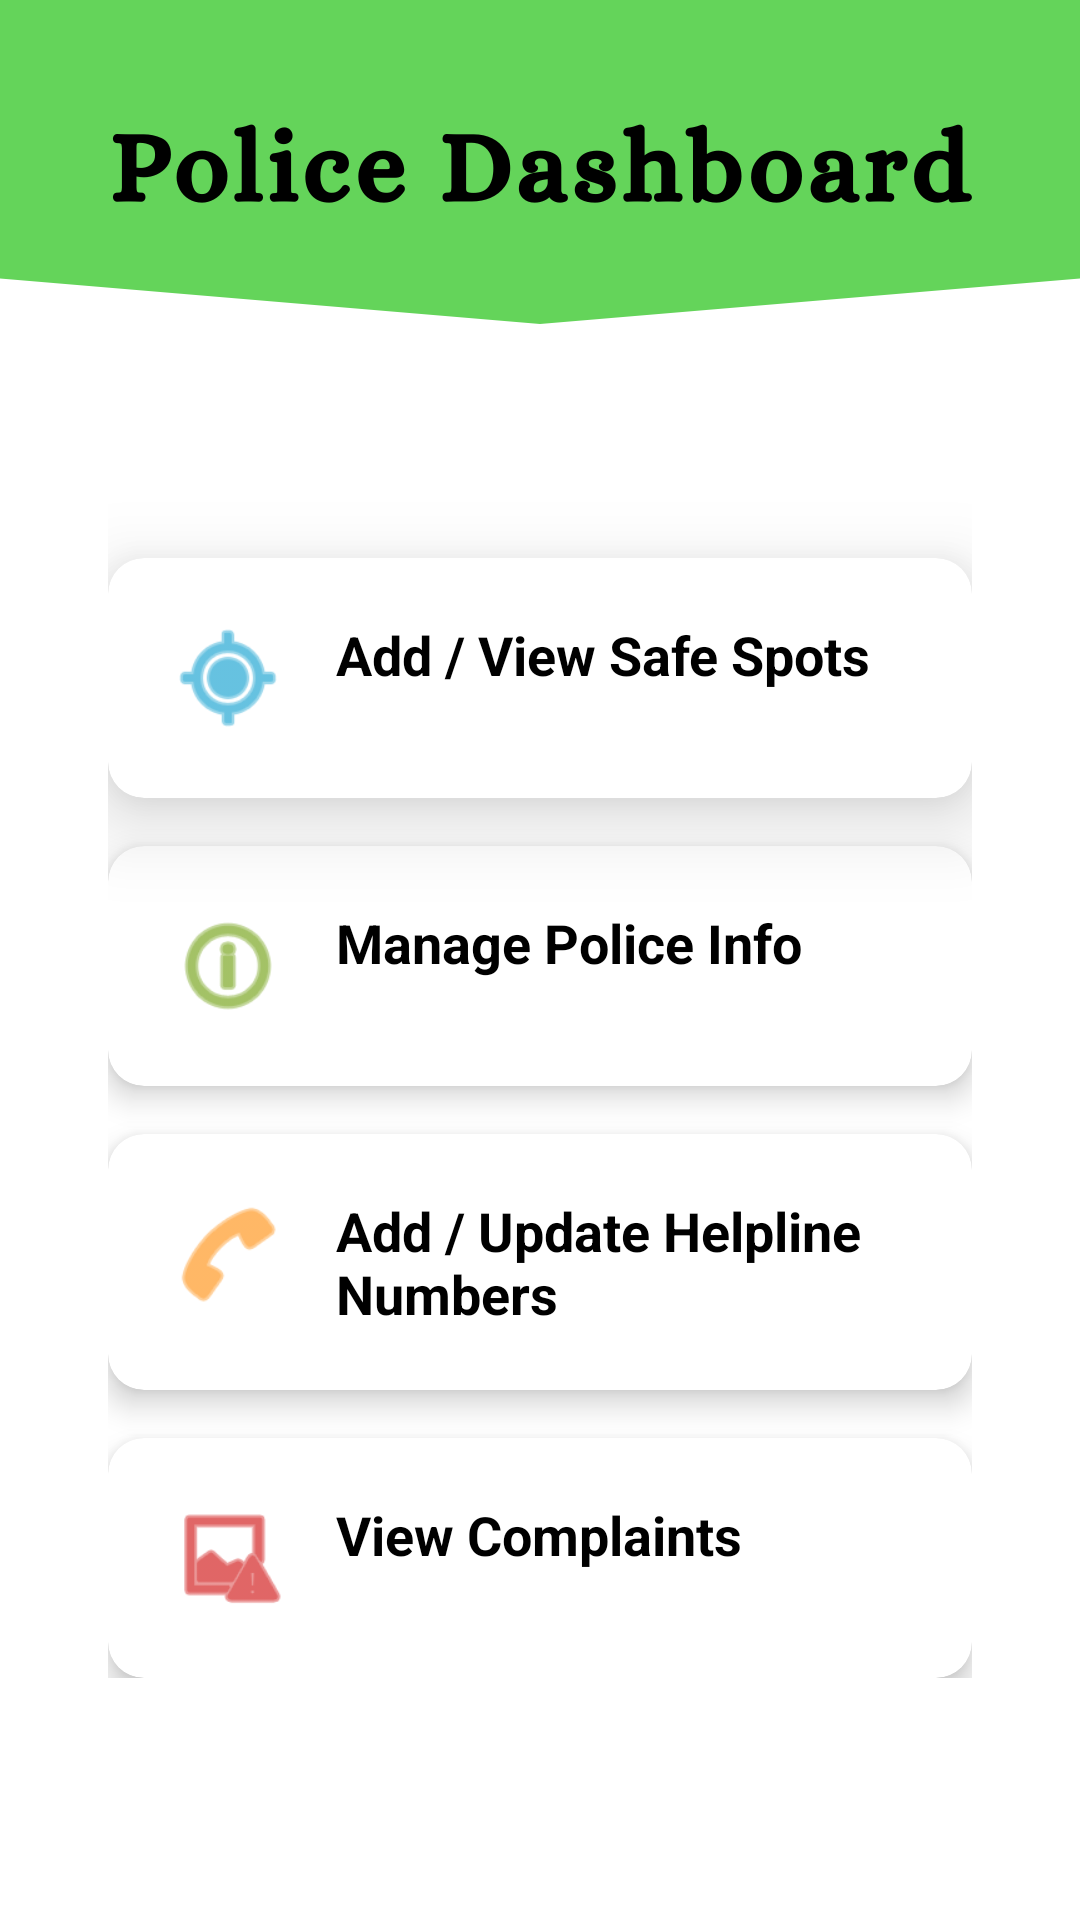

Screen size 1080x1920. Icon name, then its box in pixels as BBox(x1, y1, x2, y2):
call: BBox(182, 1208, 276, 1302)
info details: BBox(185, 923, 271, 1009)
mylocation: BBox(180, 630, 276, 726)
report: BBox(184, 1514, 281, 1603)
